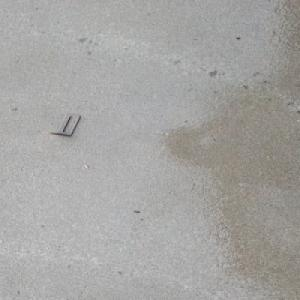MetalPart: (38, 113, 82, 136)
